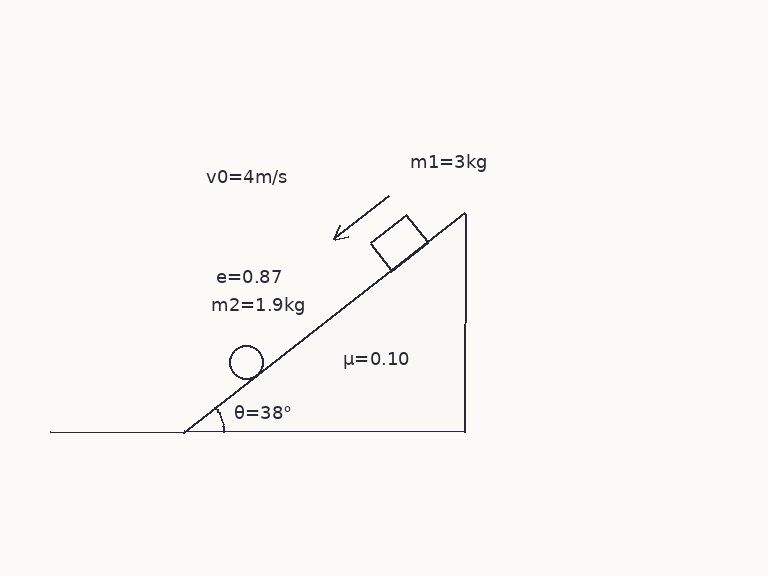ball: (227, 343, 265, 381)
block: (368, 213, 430, 272)
ramp: (182, 211, 467, 434)
